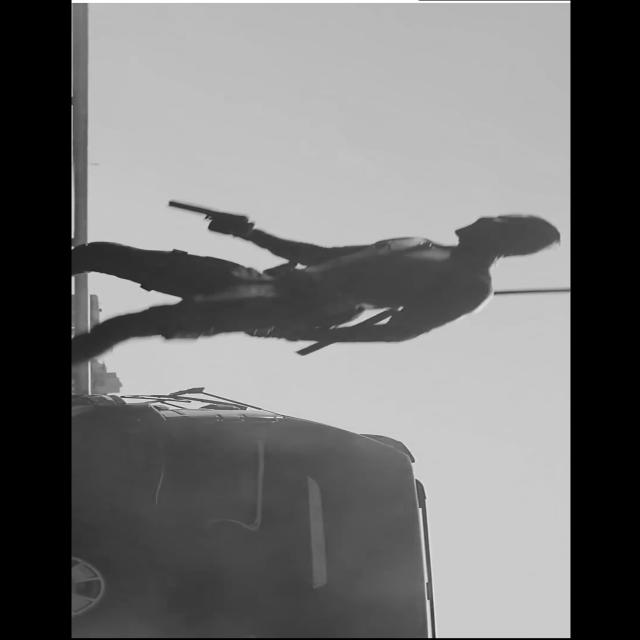weapons: (146, 189, 268, 241)
